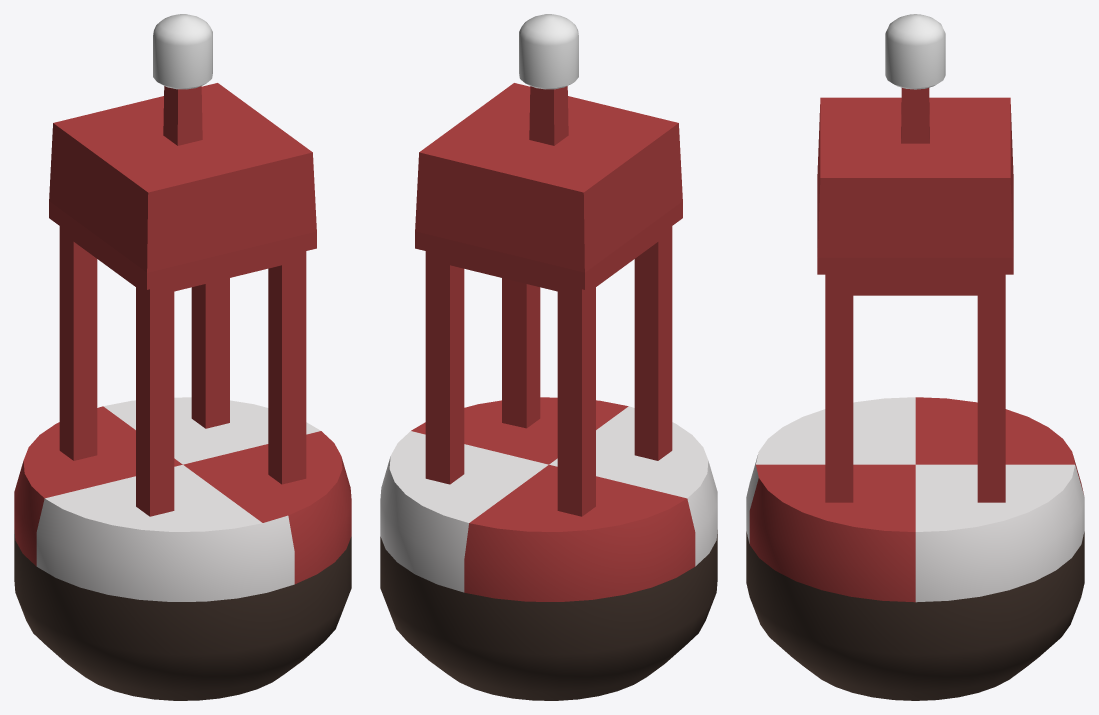
File: buoy.fbx
The picture shows the model from 3 angles, left to right: view 1: azimuth 30°, elevation 25°; view 2: azimuth 150°, elevation 25°; view 3: azimuth 270°, elevation 25°; orthographic projection.
Visible parts, largest first — view 1: Base, Cap, Strut, Light; view 2: Base, Cap, Strut, Light; view 3: Base, Cap, Strut, Light.
Part boxes in pixels (x1,y1,x2,y2): Base: (14,397,351,700); Cap: (49,83,316,289); Strut: (59,226,306,516); Light: (153,14,212,89); Base: (380,397,717,700); Cap: (415,83,682,289); Strut: (425,226,672,516); Light: (519,14,578,89); Base: (746,397,1084,700); Cap: (817,88,1013,274); Strut: (825,274,1005,502); Light: (885,14,945,89).
Size of the model in its own units: 400 by 831 by 400.
